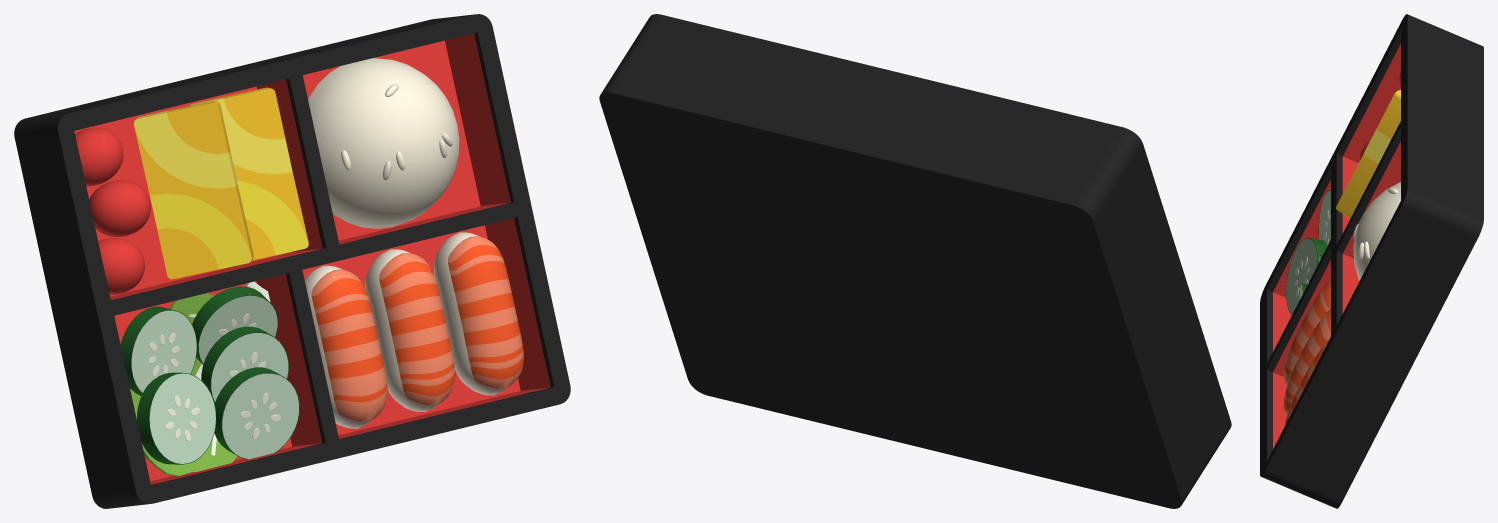
File: bento_box.gltf
3 views of the same model, side by side, from view 1: azimuth 30°, elevation 25°; view 2: azimuth 150°, elevation 25°; view 3: azimuth 270°, elevation 25° (orthographic). The views are drawn at different scales.
Parts seen in each view (by area): view 1: Cube.417; view 2: Cube.417; view 3: Cube.417.
Boxes of the visible parts, box(x1,y1,x2,y2) form: Cube.417: box(14, 14, 570, 508); Cube.417: box(599, 14, 1231, 508); Cube.417: box(1260, 14, 1483, 508).
Bounding box in the file's own units: 2.15 × 1.73 × 1.1.
Materials: 1 (1 with a texture image).
